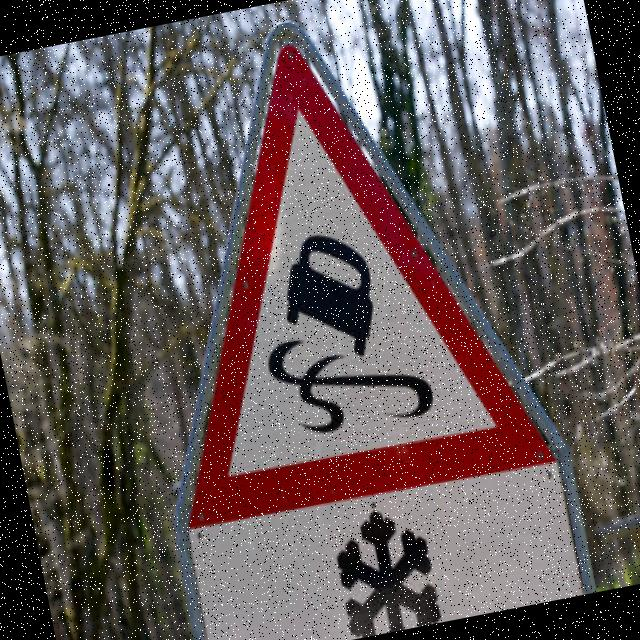road_slippery: (100, 0, 561, 543)
